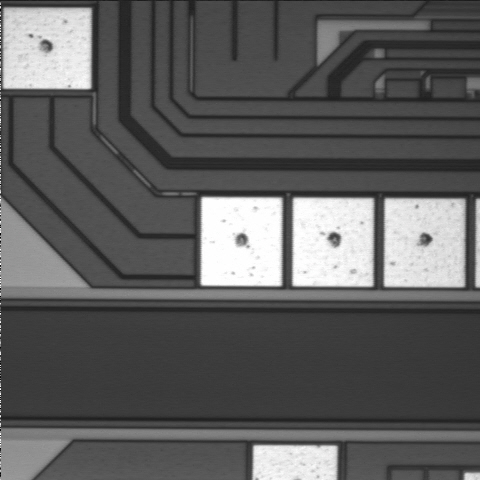pad: (292, 198, 374, 287), (201, 197, 282, 286), (3, 8, 91, 89), (384, 199, 465, 287)
